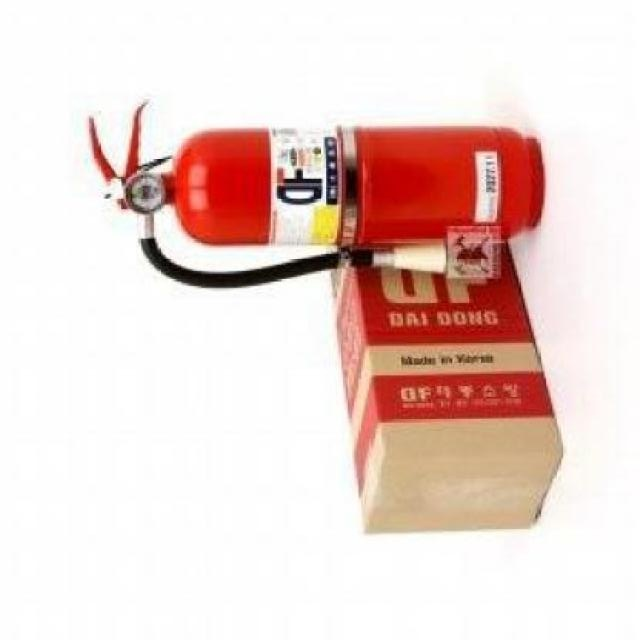fire extinguisher: (87, 100, 544, 291)
